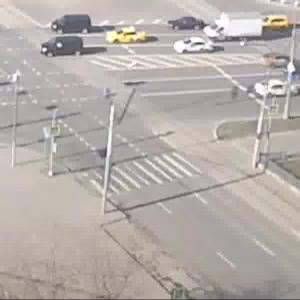car: (208, 17, 255, 45), (37, 14, 95, 35), (256, 78, 300, 100), (42, 38, 87, 59), (108, 27, 147, 46), (262, 52, 296, 71), (166, 16, 203, 31), (176, 39, 212, 54), (261, 15, 288, 30)
